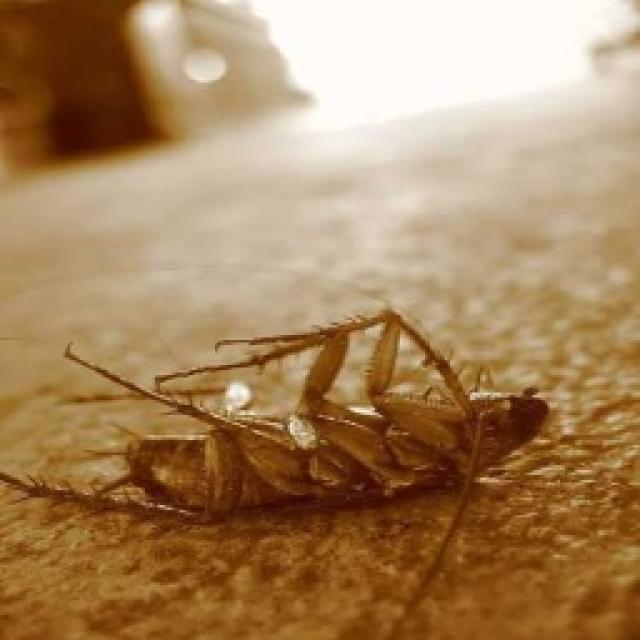cockroach: (13, 290, 595, 588)
